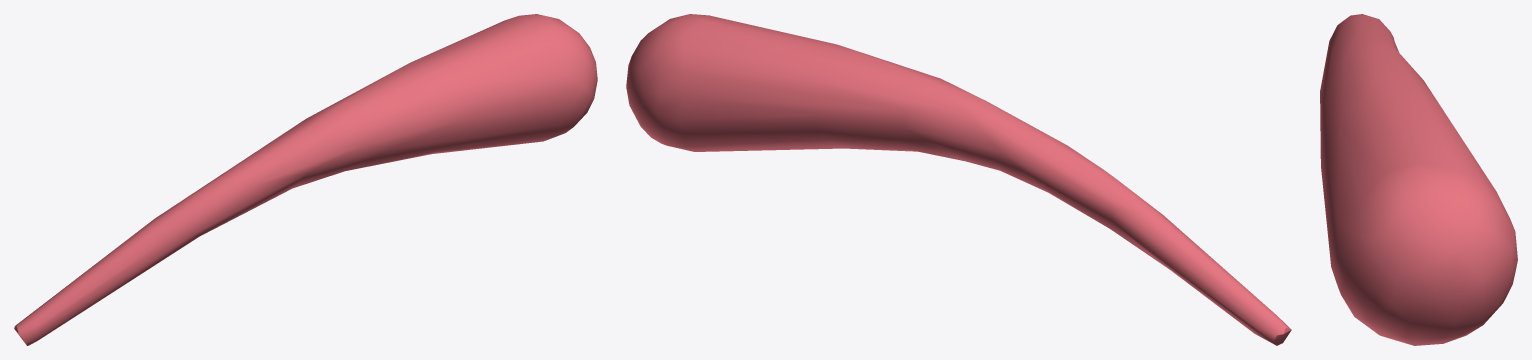
File: fma8620_fj6044.glb
The picture shows the model from 3 angles, left to right: view 1: azimuth 30°, elevation 25°; view 2: azimuth 150°, elevation 25°; view 3: azimuth 270°, elevation 25°; orthographic projection. The views are drawn at different scales.
Visible parts, largest first — view 1: FMA8620_FJ6044; view 2: FMA8620_FJ6044; view 3: FMA8620_FJ6044.
Boxes of the visible parts, left/top/right/bottom form: FMA8620_FJ6044: left=14, top=14, right=597, bottom=345; FMA8620_FJ6044: left=626, top=14, right=1291, bottom=345; FMA8620_FJ6044: left=1320, top=14, right=1517, bottom=345.
Size of the model in its own units: 0.0517 by 0.0156 by 0.0103.
